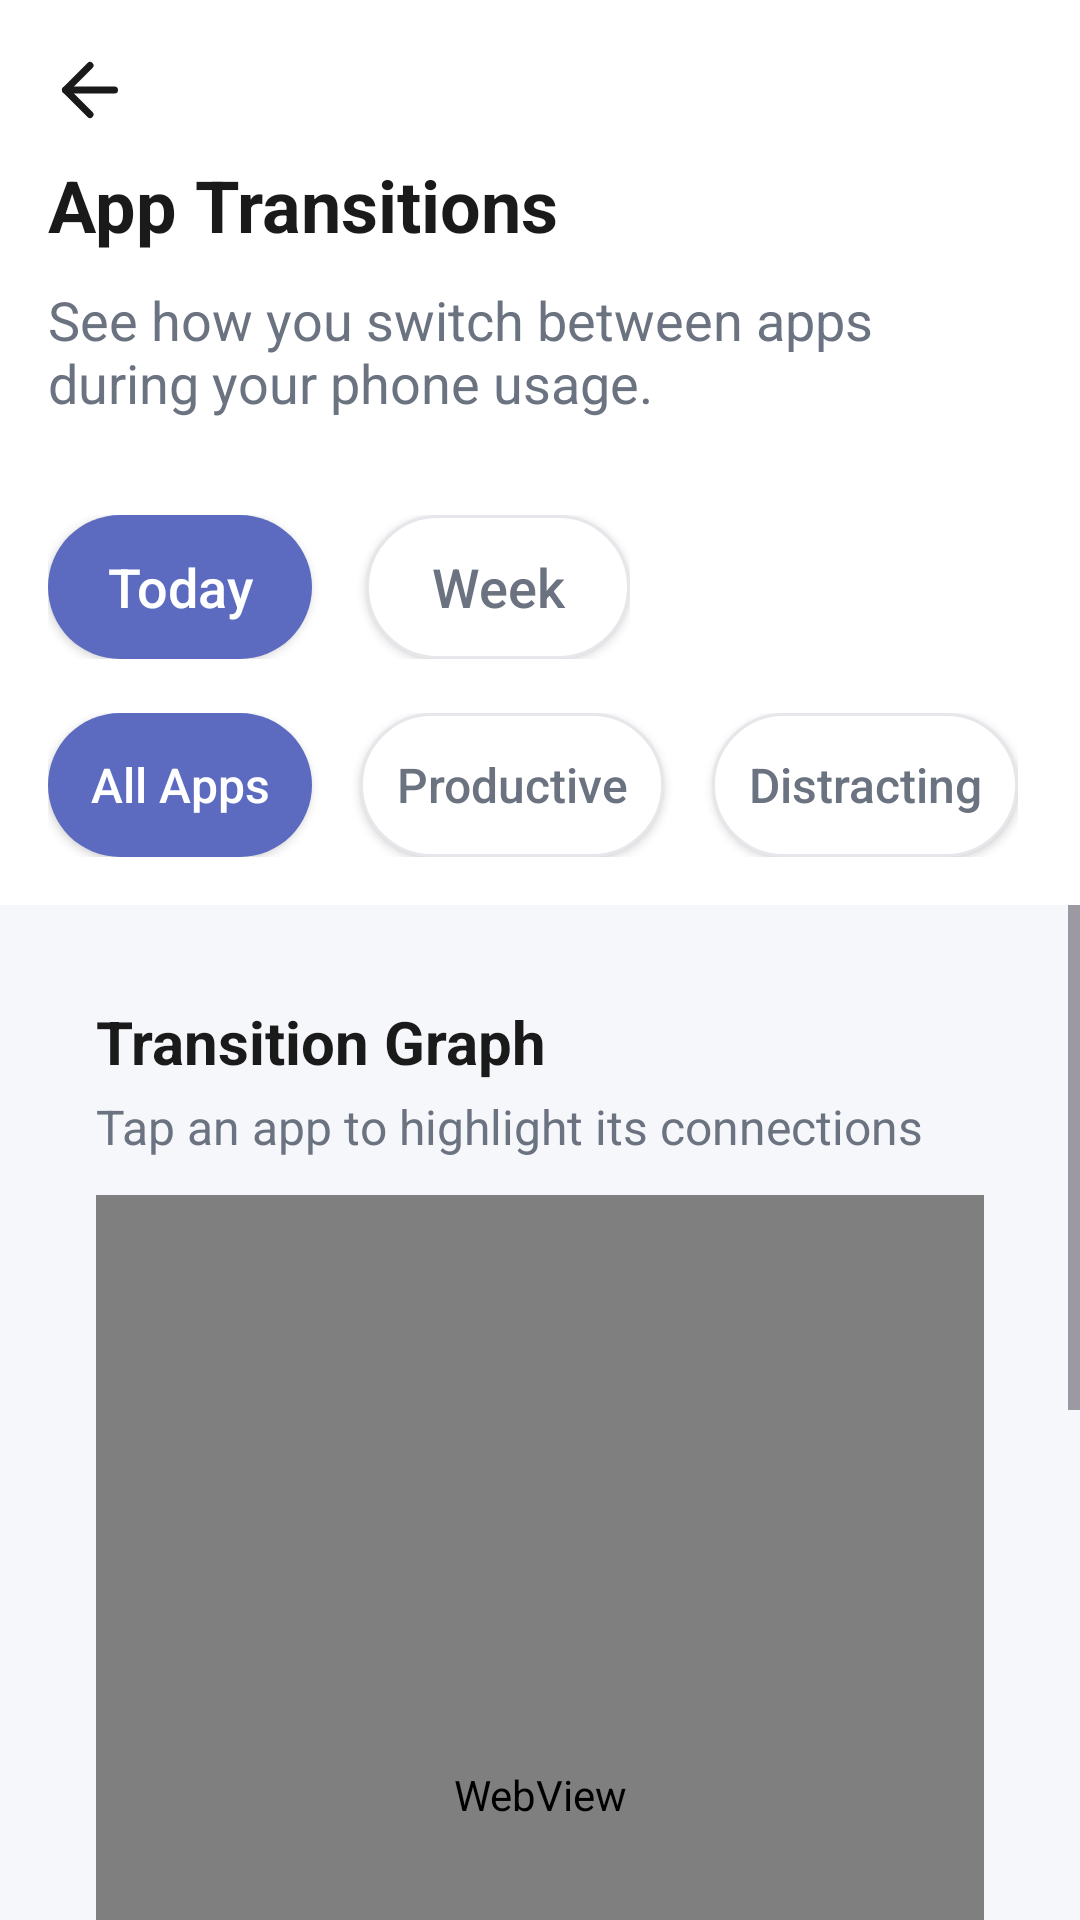

Named icons in this screenshot (1080*1920) and their centers, (x,y):
arrow left: (90,90)
